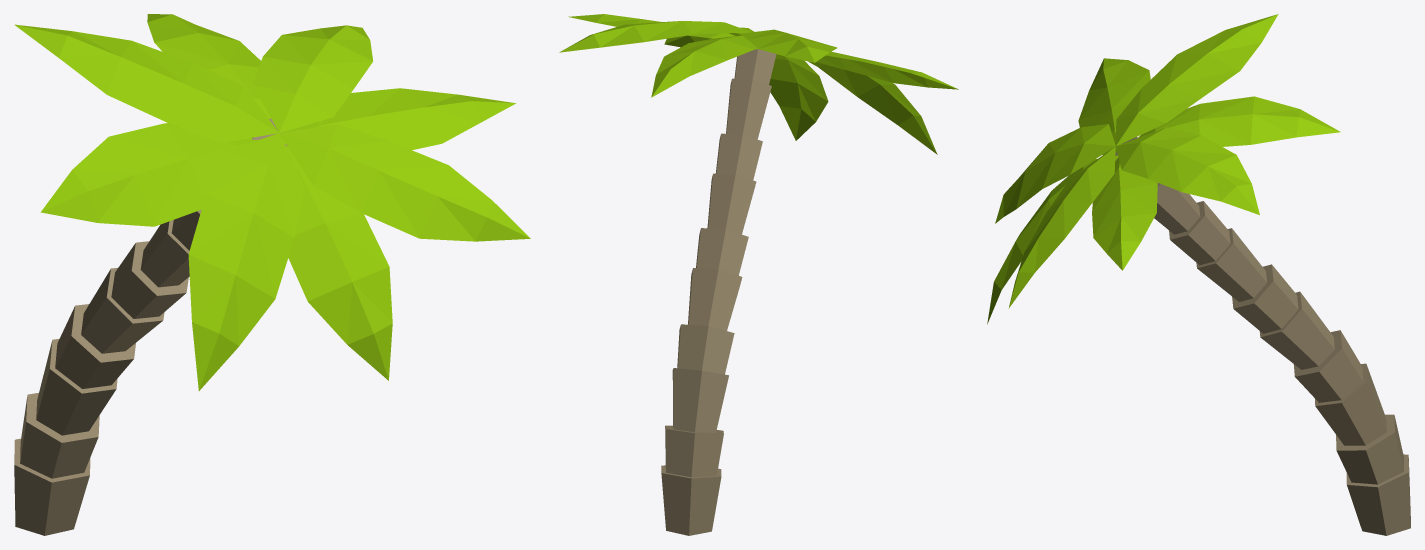
Rendered from palm7.fbx.
The picture shows the model from 3 angles, left to right: view 1: azimuth 30°, elevation 25°; view 2: azimuth 150°, elevation 25°; view 3: azimuth 270°, elevation 25°; orthographic projection. The views are drawn at different scales.
Parts seen in each view (by area): view 1: palm7; view 2: palm7; view 3: palm7.
Boxes of the visible parts, <box> form: palm7: <box>14,14,530,535</box>; palm7: <box>559,14,958,535</box>; palm7: <box>987,14,1410,535</box>.
Bounding box in the file's own units: 159 × 178 × 144.
